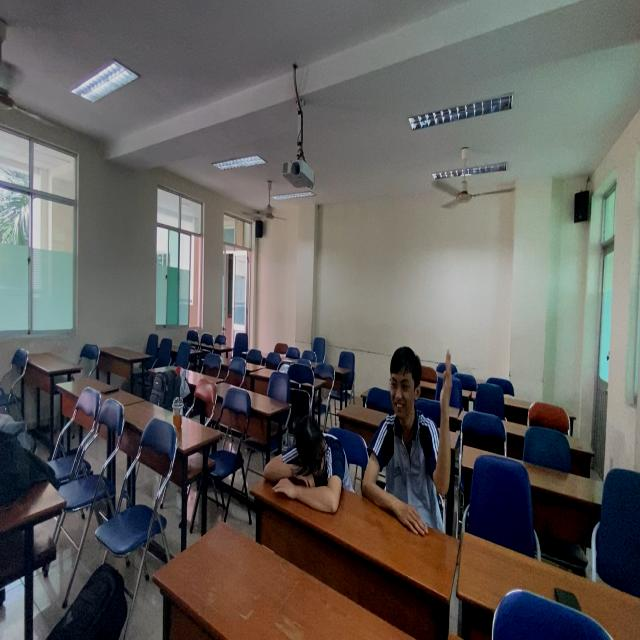raise_hand: (358, 343, 457, 536)
sleep: (259, 410, 355, 527)
